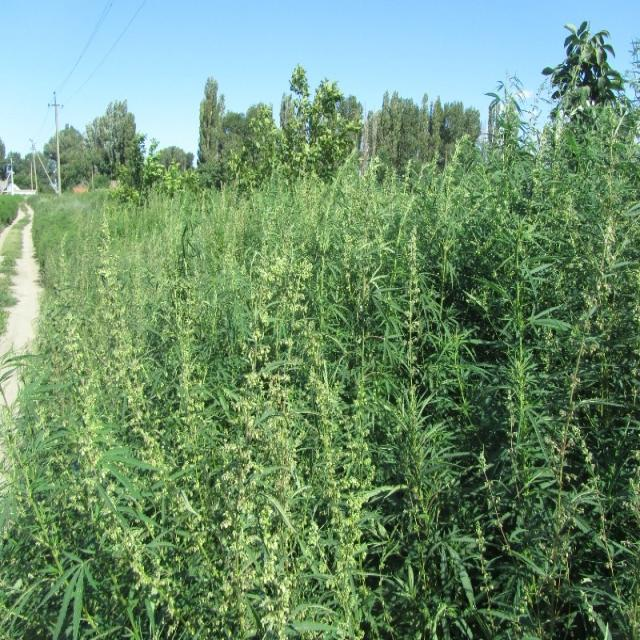ambrosia: (185, 328, 392, 640), (485, 144, 640, 518), (43, 225, 155, 590), (237, 182, 327, 350)
